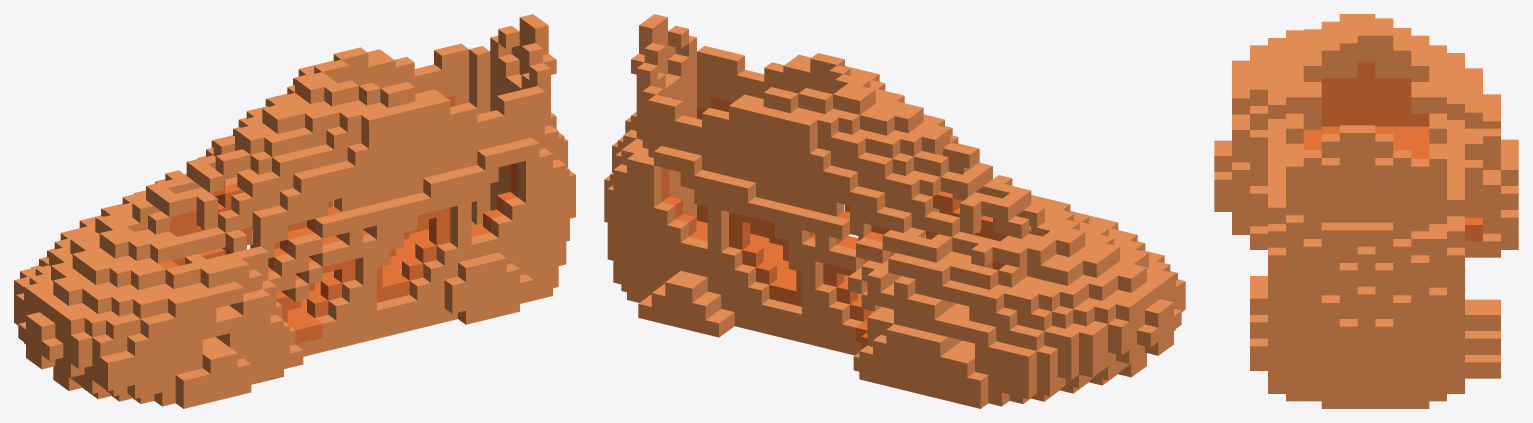
Rendered from Clay Taupe.fbx.
The picture shows the model from 3 angles, left to right: view 1: azimuth 30°, elevation 25°; view 2: azimuth 150°, elevation 25°; view 3: azimuth 270°, elevation 25°; orthographic projection. The views are drawn at different scales.
Visible parts, largest first — view 1: Untitled; view 2: Untitled; view 3: Untitled.
Part boxes in pixels (x1,y1,x2,y2): Untitled: [14, 14, 575, 408]; Untitled: [604, 14, 1185, 408]; Untitled: [1214, 14, 1518, 408].
Bounding box in the file's own units: 400 × 170 × 170.
